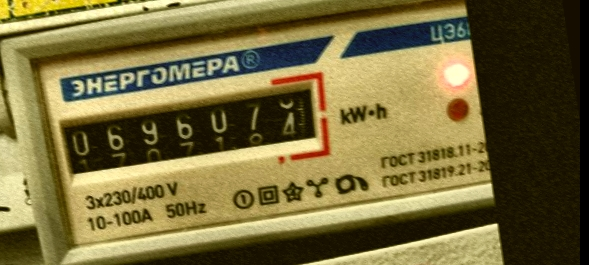0: (68, 126, 92, 158), (207, 102, 230, 135)
4: (276, 109, 298, 139)
6: (101, 120, 128, 152), (173, 110, 195, 140)
7: (242, 99, 263, 131)
9: (138, 116, 160, 147)
screen: (40, 64, 335, 194)
